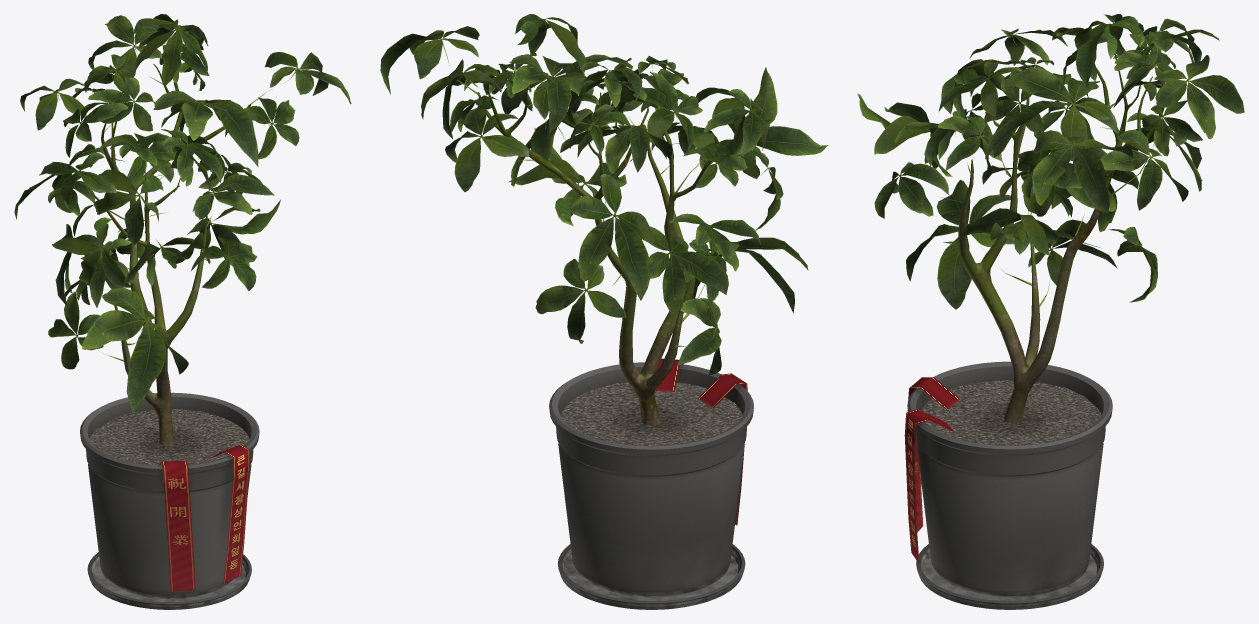
Rendered from StorePlant.fbx.
3 renders of one model, left to right at view 1: azimuth 30°, elevation 25°; view 2: azimuth 150°, elevation 25°; view 3: azimuth 270°, elevation 25°, orthographic. The views are drawn at different scales.
Parts seen in each view (by area): view 1: StorePlant; view 2: StorePlant; view 3: StorePlant.
Part boxes in pixels (left/top/right/bottom): StorePlant: left=14, top=14, right=351, bottom=609; StorePlant: left=380, top=14, right=827, bottom=609; StorePlant: left=857, top=14, right=1244, bottom=609.
Size of the model in its own units: 0.7045 by 1.1 by 0.6672.
